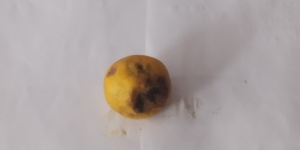BAD: (102, 51, 170, 118)
